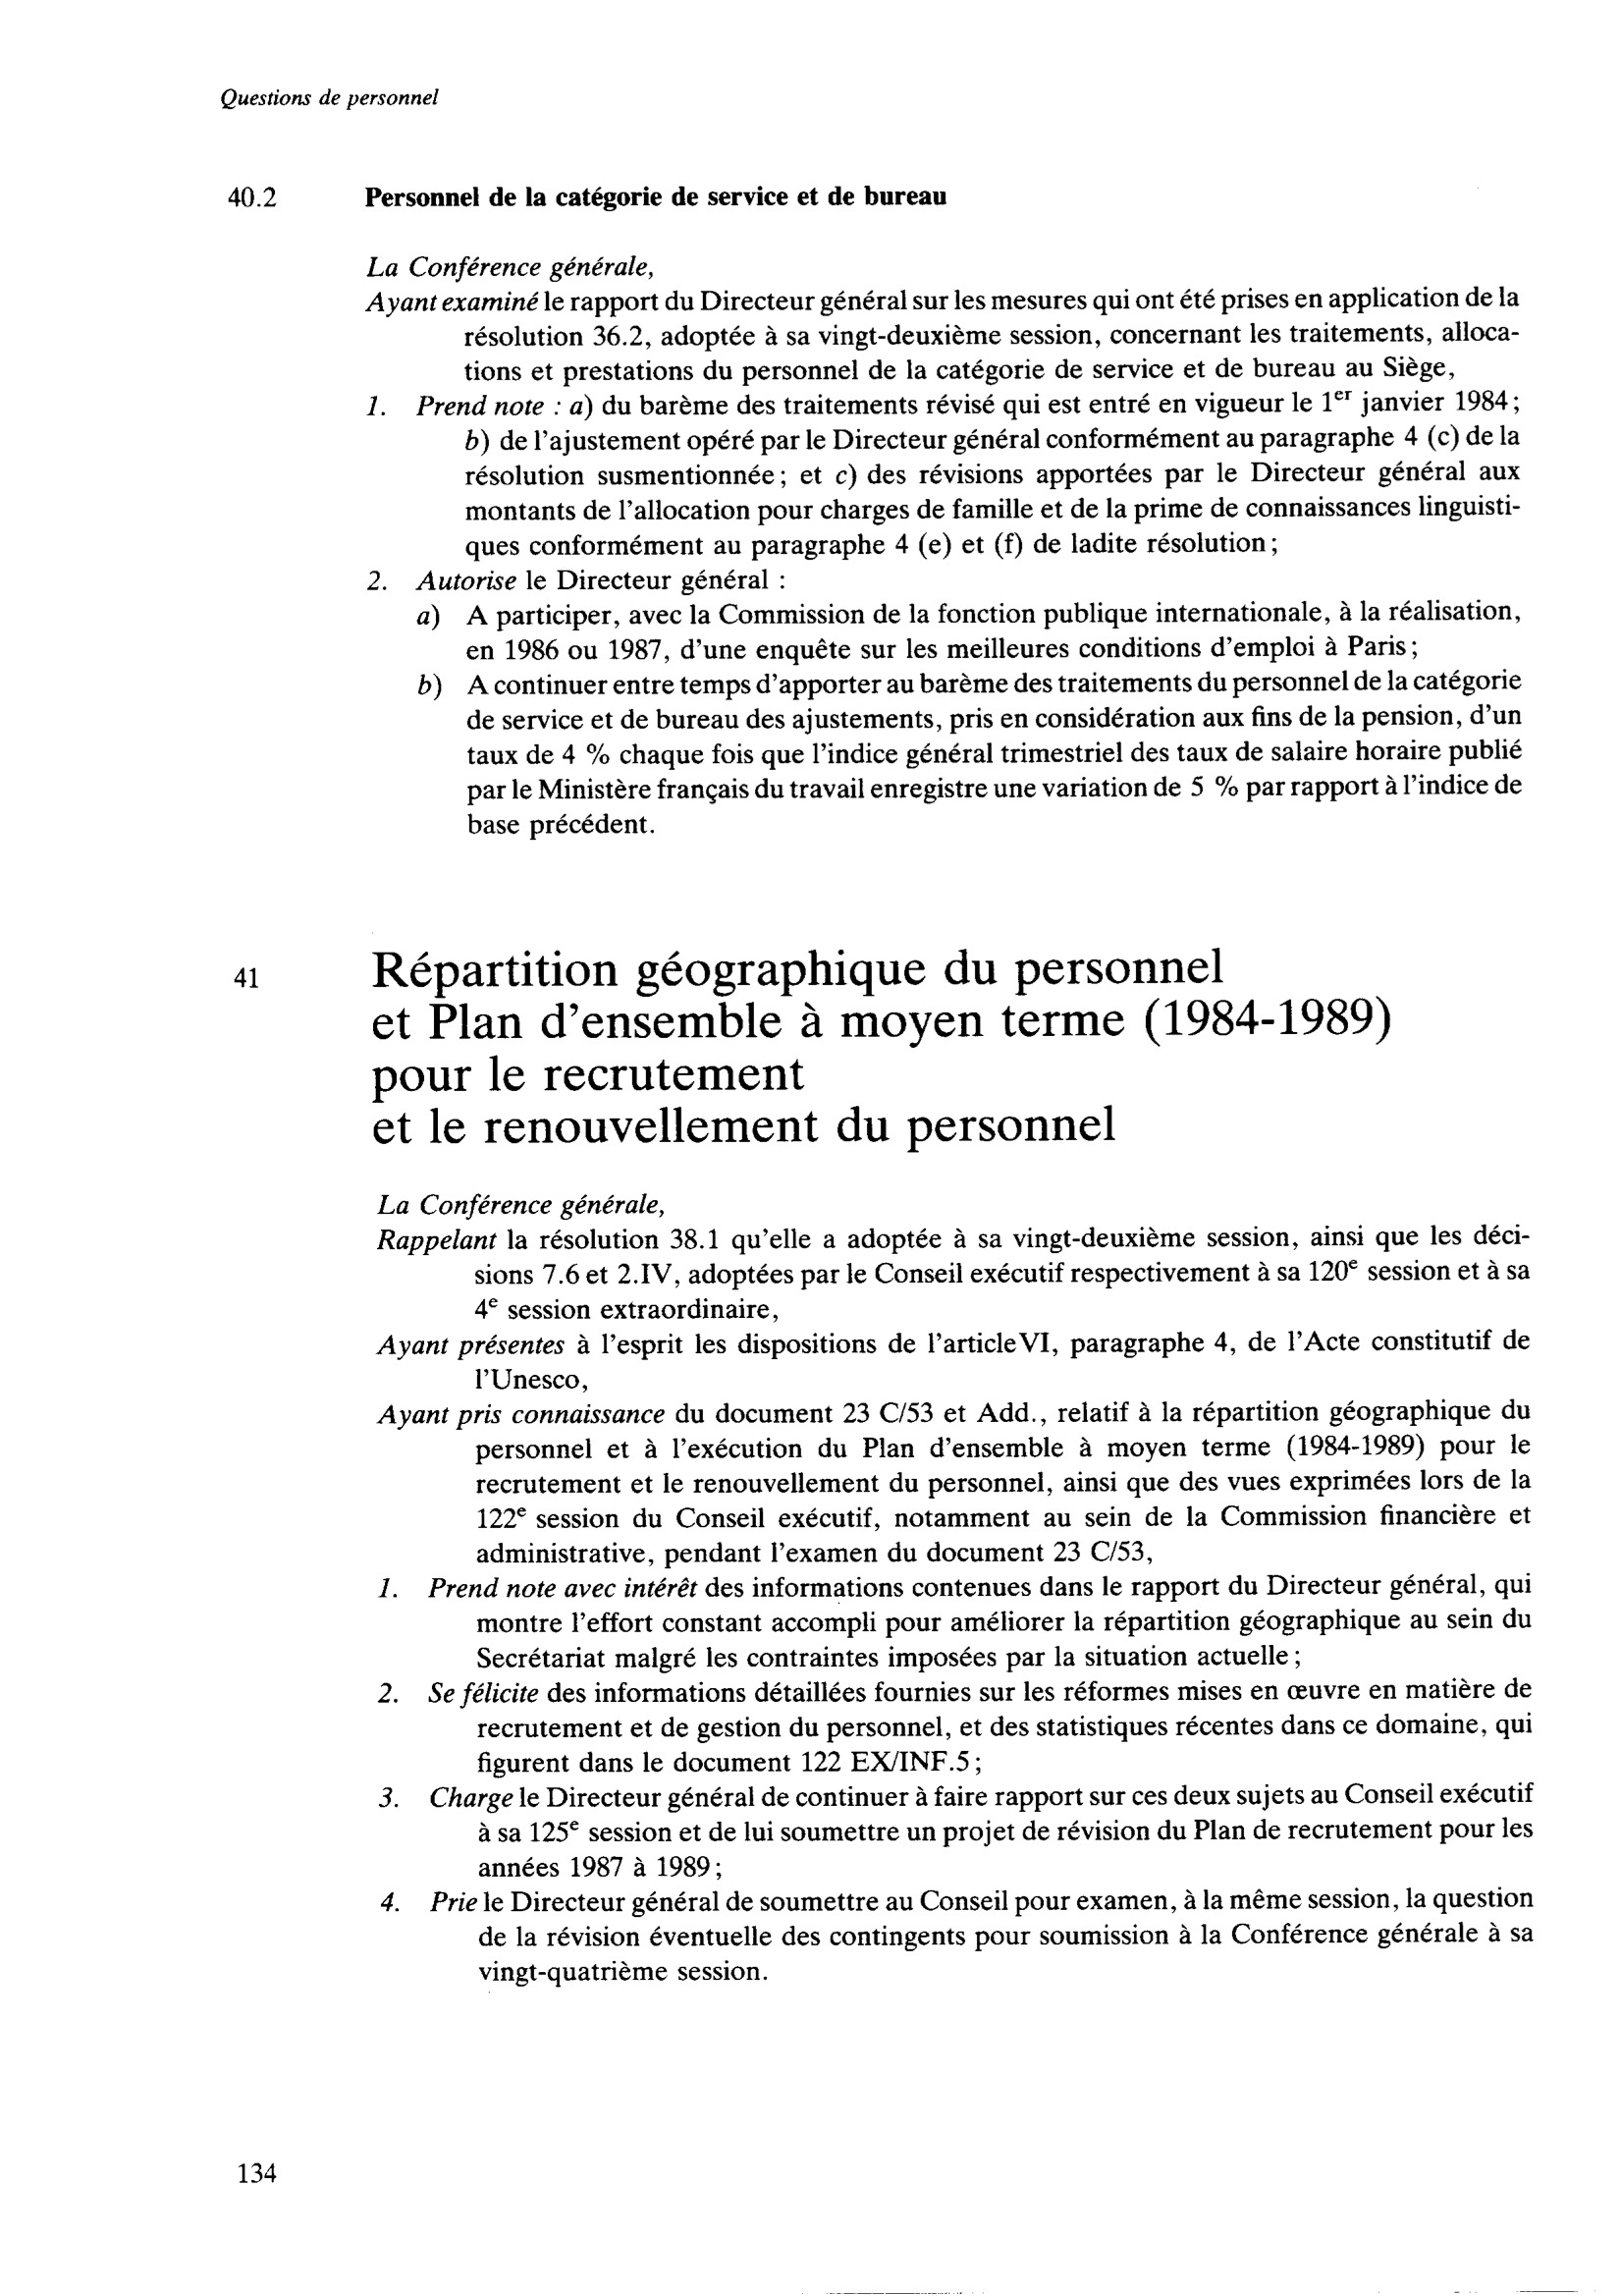MainZone-Head: (224, 939, 1392, 1151), (215, 173, 951, 211)
MainZone-ListItem: (354, 665, 1531, 849), (353, 389, 1528, 563), (366, 1883, 1546, 2000), (364, 1779, 1544, 1887), (365, 1671, 1541, 1777), (365, 1571, 1541, 1674), (404, 596, 1527, 663), (359, 564, 788, 594)
MainZone-P: (362, 1393, 1542, 1571), (359, 1217, 1545, 1329), (354, 281, 1525, 386), (359, 1324, 1544, 1397), (354, 249, 661, 280), (362, 1190, 672, 1220)
StampZone: (208, 77, 451, 122)
TitlePageZone: (227, 2150, 289, 2199)
